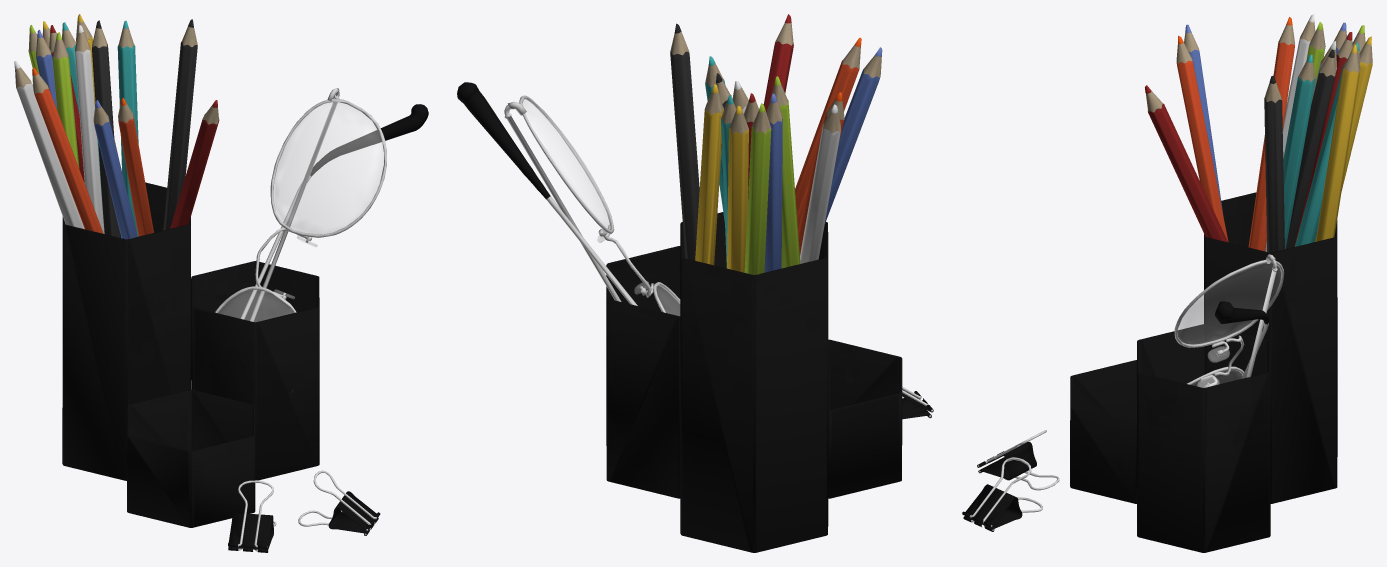
File: organizer.glb
3 renders of one model, left to right at view 1: azimuth 30°, elevation 25°; view 2: azimuth 150°, elevation 25°; view 3: azimuth 270°, elevation 25°, orthographic. The views are drawn at different scales.
Visible parts, largest first — view 1: Object_34, Object_8, Object_52, Object_40, Object_48, Object_10, Object_38, Object_30, Object_42, Object_44, Object_50, Object_46 (+2 smaller); view 2: Object_34, Object_54, Object_46, Object_42, Object_38, Object_10, Object_40, Object_8, Object_30, Object_52, Object_48, Object_44 (+1 smaller); view 3: Object_34, Object_40, Object_48, Object_8, Object_50, Object_54, Object_44, Object_38, Object_10, Object_30, Object_32, Object_12 (+2 smaller).
Boxes of the visible parts, x1,y1,x2,y2 form: Object_34: (62, 182, 319, 527); Object_8: (217, 102, 383, 321); Object_52: (16, 49, 104, 233); Object_40: (92, 42, 197, 237); Object_48: (34, 86, 153, 236); Object_10: (191, 88, 386, 389); Object_38: (15, 21, 219, 125); Object_30: (228, 104, 428, 552); Object_42: (36, 51, 137, 239); Object_44: (51, 52, 219, 228); Object_50: (66, 45, 138, 238); Object_46: (28, 50, 79, 168); Object_34: (606, 212, 902, 552); Object_54: (695, 108, 748, 272); Object_46: (744, 100, 800, 274); Object_42: (764, 69, 879, 272); Object_38: (670, 23, 881, 133); Object_10: (504, 95, 680, 312); Object_40: (670, 51, 726, 260); Object_8: (523, 98, 680, 315); Object_30: (457, 82, 933, 419); Object_52: (736, 106, 840, 263); Object_48: (795, 60, 859, 254); Object_44: (746, 41, 793, 199); Object_34: (1070, 192, 1337, 552); Object_40: (1264, 71, 1335, 252); Object_48: (1177, 41, 1294, 251); Object_8: (1178, 263, 1281, 387); Object_50: (1267, 65, 1344, 251); Object_54: (1315, 62, 1372, 241); Object_44: (1148, 55, 1347, 246); Object_38: (1146, 20, 1372, 112); Object_10: (1174, 254, 1284, 387); Object_30: (977, 301, 1268, 480); Object_32: (962, 484, 1022, 531); Object_12: (969, 430, 1059, 530).
Size of the model in its own units: 0.1728 by 0.184 by 0.159.
Materials: 23 (4 with a texture image).
